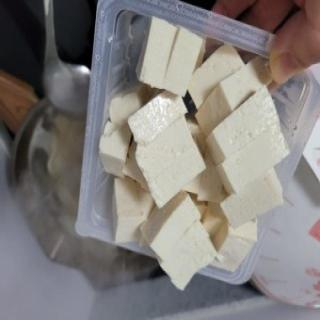Tahu: (99, 17, 289, 290)
